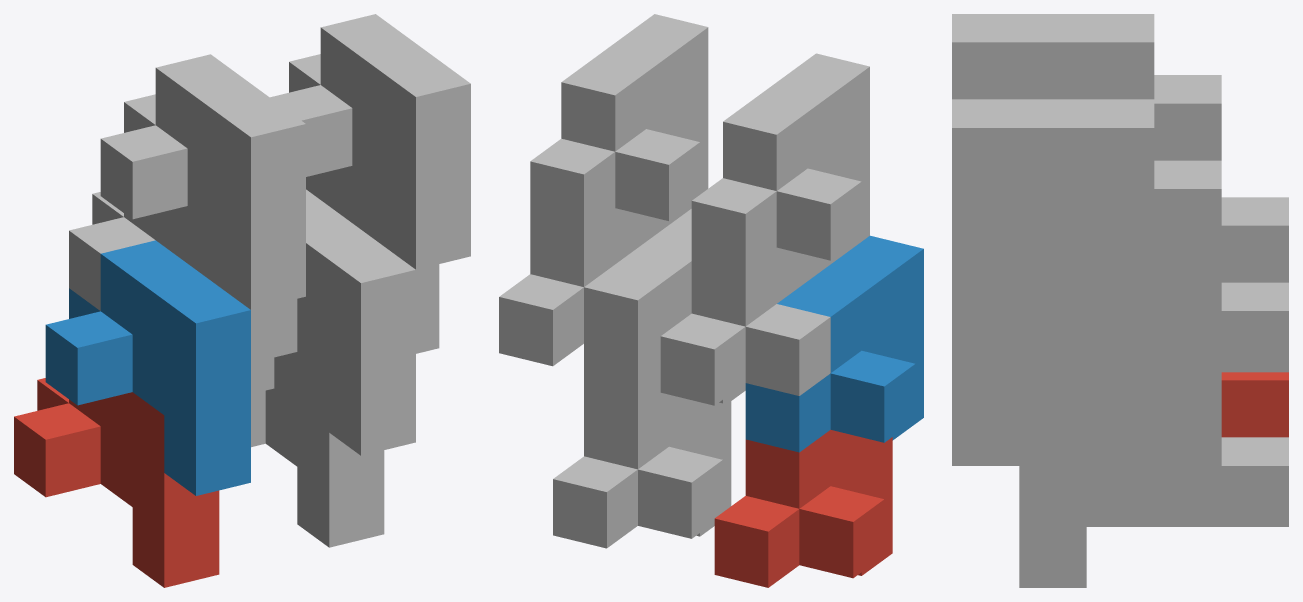
File: tiling.obj
The picture shows the model from 3 angles, left to right: view 1: azimuth 30°, elevation 25°; view 2: azimuth 150°, elevation 25°; view 3: azimuth 270°, elevation 25°; orthographic projection. The views are drawn at different scales.
Visible parts, largest first — view 1: copy_1_domain_4, copy_1_domain_2, copy_1_domain_8, copy_1_domain_6, copy_1_domain_1, copy_1_domain_5, copy_1_domain_3, copy_1_domain_7; view 2: copy_1_domain_4, copy_1_domain_8, copy_1_domain_2, copy_1_domain_1, copy_1_domain_5, copy_1_domain_3, copy_1_domain_7, copy_1_domain_6; view 3: copy_1_domain_8, copy_1_domain_7, copy_1_domain_5, copy_1_domain_4, copy_1_domain_6, copy_1_domain_3, copy_1_domain_1.
Boxes of the visible parts, <box> form: copy_1_domain_4: <box>100,54,305,309</box>; copy_1_domain_2: <box>45,240,250,495</box>; copy_1_domain_8: <box>270,14,470,269</box>; copy_1_domain_6: <box>274,200,415,455</box>; copy_1_domain_1: <box>14,378,219,587</box>; copy_1_domain_5: <box>251,352,384,547</box>; copy_1_domain_3: <box>69,192,274,393</box>; copy_1_domain_7: <box>306,166,439,353</box>; copy_1_domain_4: <box>691,53,869,270</box>; copy_1_domain_8: <box>530,14,708,230</box>; copy_1_domain_2: <box>745,235,923,452</box>; copy_1_domain_1: <box>714,429,892,587</box>; copy_1_domain_5: <box>553,393,731,548</box>; copy_1_domain_3: <box>660,247,838,405</box>; copy_1_domain_7: <box>499,208,677,366</box>; copy_1_domain_6: <box>584,209,745,412</box>; copy_1_domain_8: <box>952,99,1221,310</box>; copy_1_domain_7: <box>1019,250,1288,433</box>; copy_1_domain_5: <box>1019,404,1288,587</box>; copy_1_domain_4: <box>952,14,1221,160</box>; copy_1_domain_6: <box>952,311,1221,465</box>; copy_1_domain_3: <box>1221,197,1288,282</box>; copy_1_domain_1: <box>1221,372,1288,437</box>.
Size of the model in its own units: 6 by 8 by 5.
